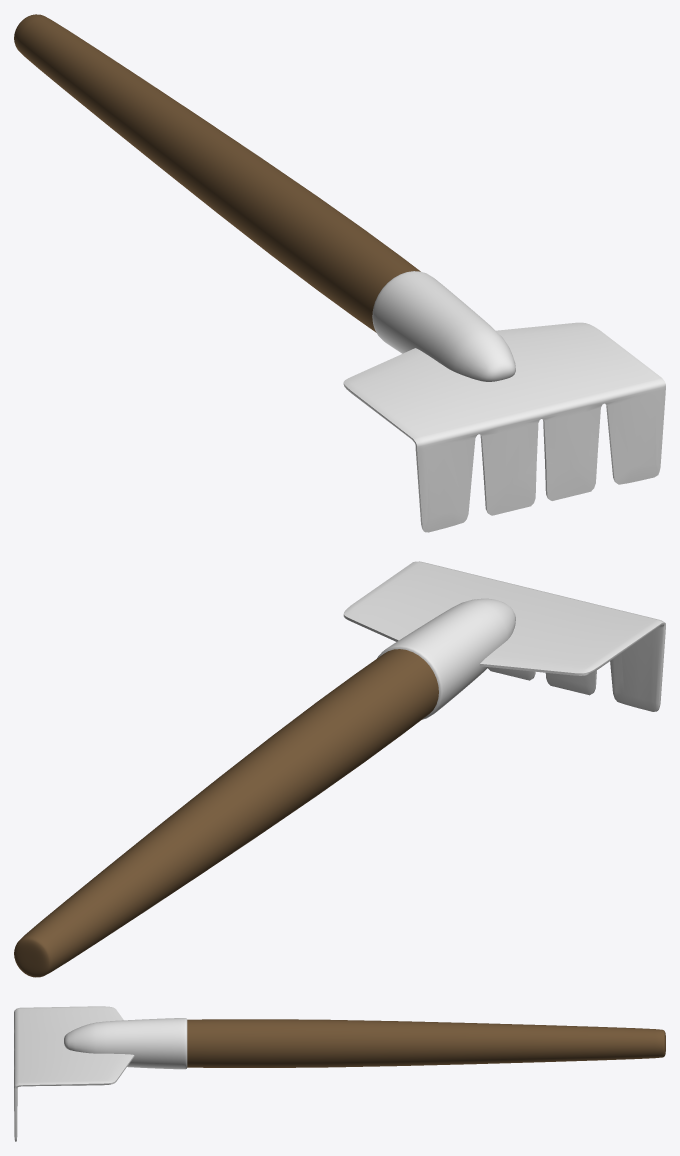
File: Rake.fbx
3 renders of one model, top to bottom at view 1: azimuth 30°, elevation 25°; view 2: azimuth 150°, elevation 25°; view 3: azimuth 270°, elevation 25°, orthographic. The views are drawn at different scales.
Visible parts, largest first — view 1: Grabli; view 2: Grabli; view 3: Grabli.
Part boxes in pixels (x1,y1,x2,y2): Grabli: (14, 14, 665, 532); Grabli: (14, 561, 665, 977); Grabli: (14, 1006, 665, 1141).
Bounding box in the file's own units: 1.01 × 0.5234 × 3.6.
